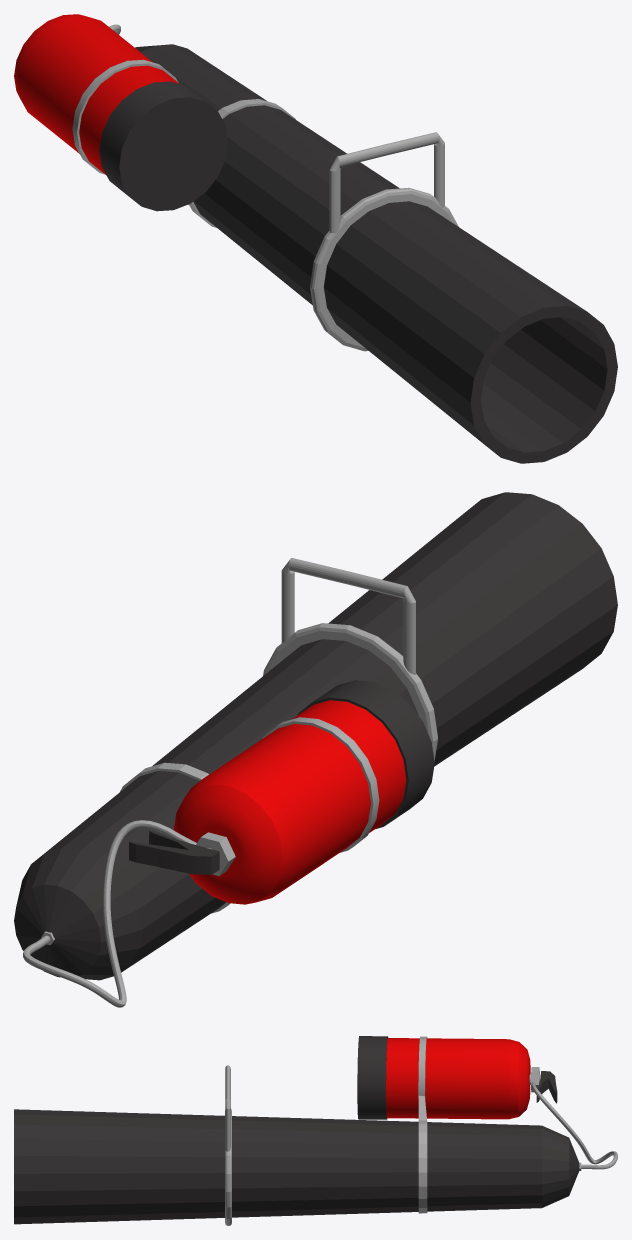
Rendered from Weapon.fbx.
3 renders of one model, top to bottom at view 1: azimuth 30°, elevation 25°; view 2: azimuth 150°, elevation 25°; view 3: azimuth 270°, elevation 25°, orthographic. The views are drawn at different scales.
Parts seen in each view (by area): view 1: pCylinder5, pCube2; view 2: pCylinder5, pCube2, pCube3; view 3: pCylinder5, pCube2, pCube3.
Part boxes in pixels (x1,y1,x2,y2): pCylinder5: [135, 44, 617, 463]; pCube2: [14, 14, 228, 211]; pCylinder5: [14, 492, 617, 980]; pCube2: [129, 680, 434, 904]; pCube3: [23, 820, 196, 1007]; pCylinder5: [14, 1065, 579, 1225]; pCube2: [357, 1036, 557, 1119]; pCube3: [531, 1082, 617, 1169].
Size of the model in its own units: 2.39 by 1.95 by 7.47.
